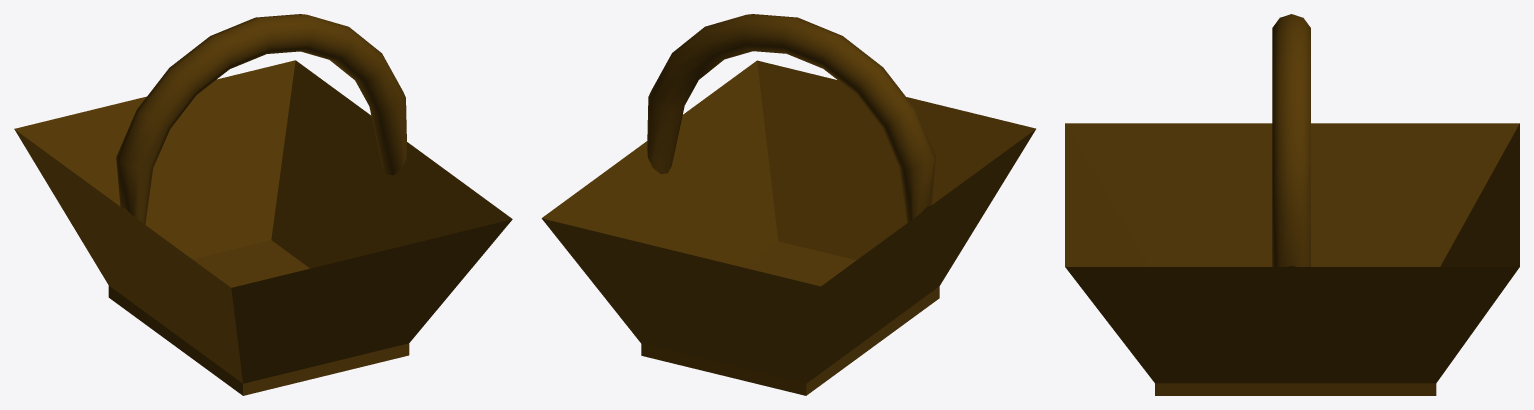
File: eggBasket.glb
The picture shows the model from 3 angles, left to right: view 1: azimuth 30°, elevation 25°; view 2: azimuth 150°, elevation 25°; view 3: azimuth 270°, elevation 25°; orthographic projection. The views are drawn at different scales.
Parts seen in each view (by area): view 1: Cylinder001; view 2: Cylinder001; view 3: Cylinder001.
Part boxes in pixels (x1,y1,x2,y2): Cylinder001: (14, 14, 512, 395); Cylinder001: (541, 14, 1035, 395); Cylinder001: (1065, 14, 1519, 395).
Bounding box in the file's own units: 0.6887 × 0.7125 × 0.9063.
